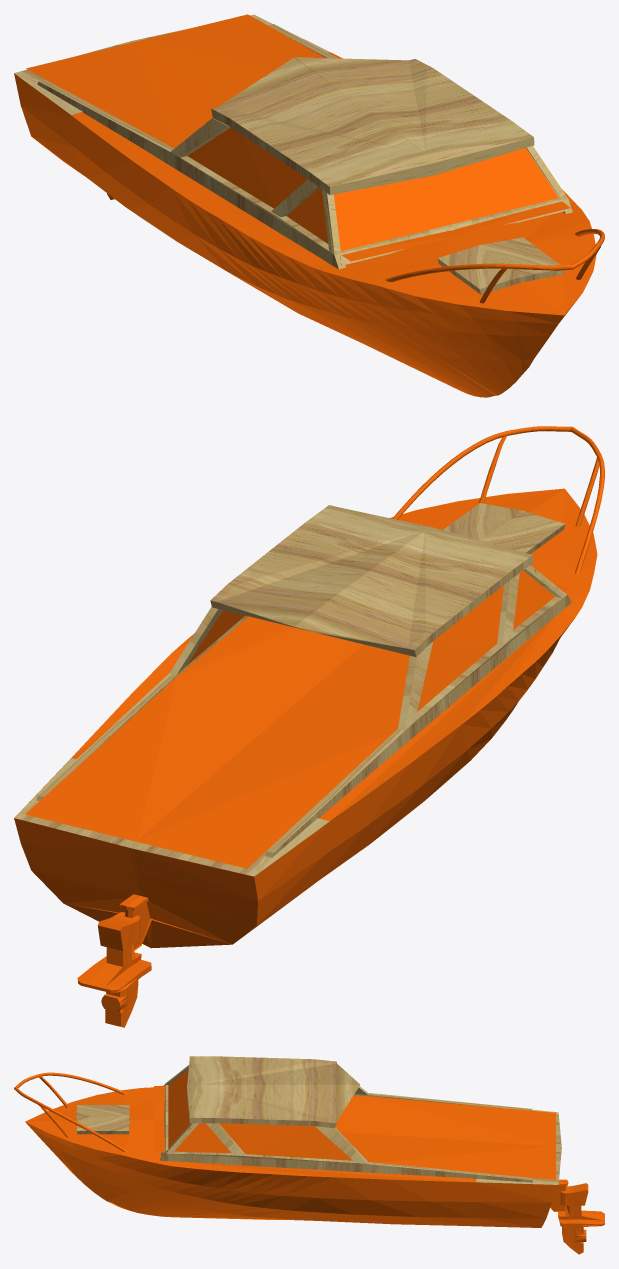
Rendered from SeaAngler.dae.
3 renders of one model, top to bottom at view 1: azimuth 30°, elevation 25°; view 2: azimuth 150°, elevation 25°; view 3: azimuth 270°, elevation 25°, orthographic. The views are drawn at different scales.
Visible parts, largest first — view 1: node; view 2: node; view 3: node.
Part boxes in pixels (left/top/right/bottom): node: left=14, top=14, right=604, bottom=397; node: left=14, top=426, right=604, bottom=1027; node: left=14, top=1056, right=604, bottom=1254.
Bounding box in the file's own units: 2.02 × 1.79 × 5.72.
